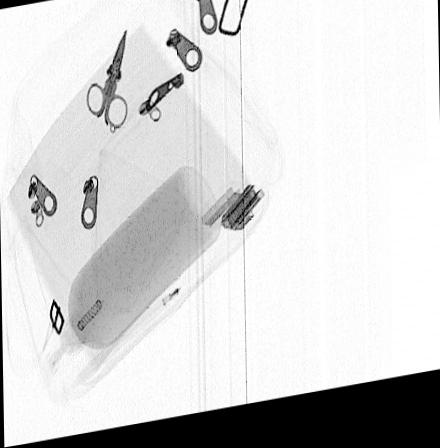Scissors: (85, 33, 128, 137)
